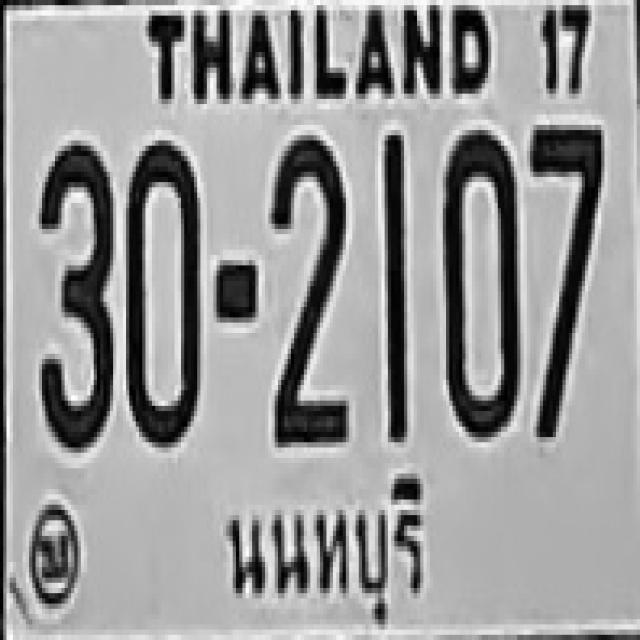0: (441, 125, 519, 437), (124, 138, 199, 445)
1: (383, 128, 406, 440)
2: (268, 133, 346, 445)
3: (37, 143, 112, 450)
7: (527, 120, 601, 437)
NBI: (205, 465, 434, 625)
